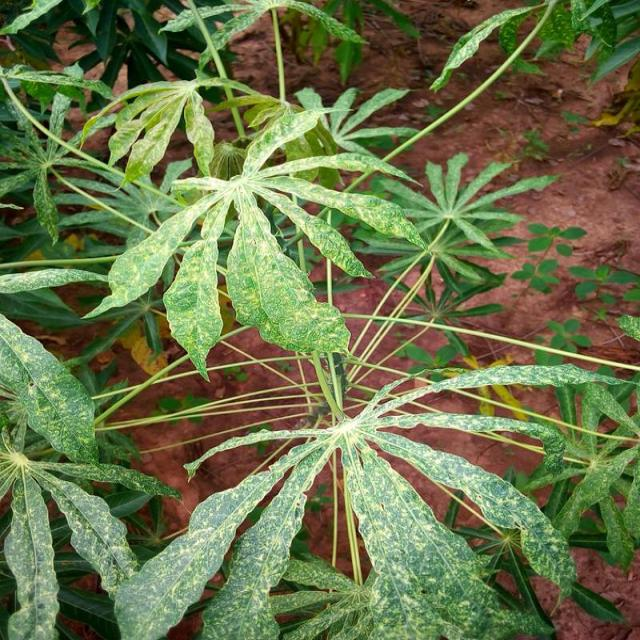cassava leaf: (2, 1, 638, 638), (91, 98, 427, 381), (2, 311, 99, 464)
